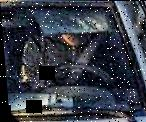seatbelt: (69, 22, 112, 73)
